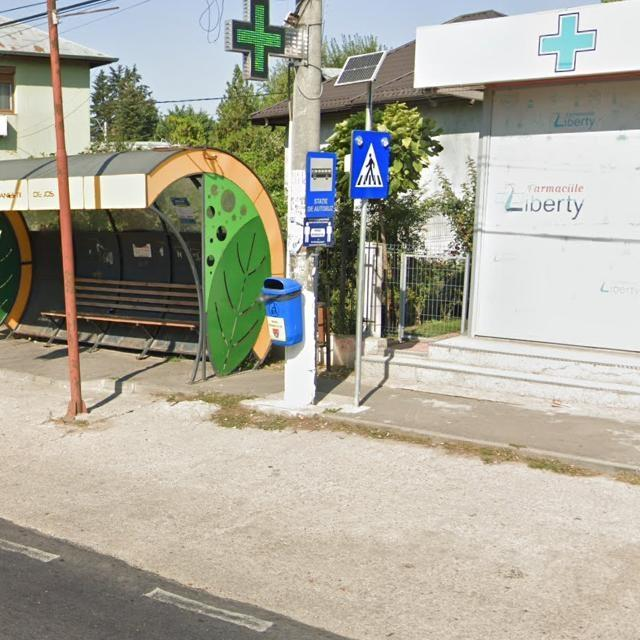info_crosswalk: (349, 129, 392, 199)
